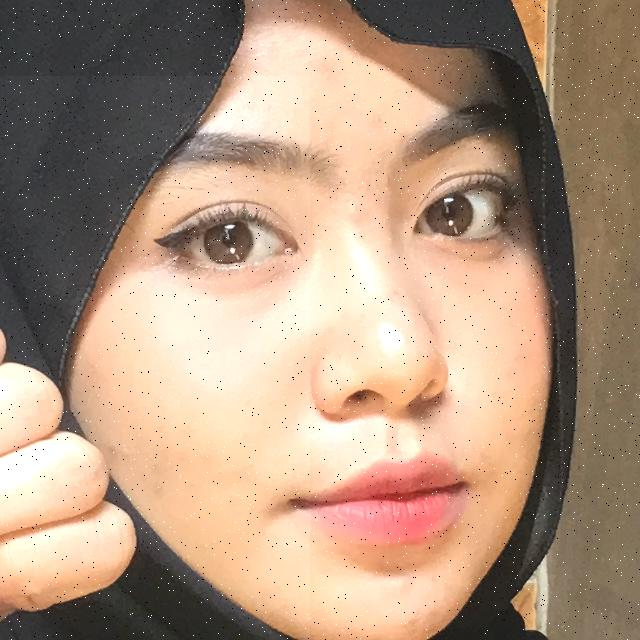sedih: (0, 76, 310, 640)
